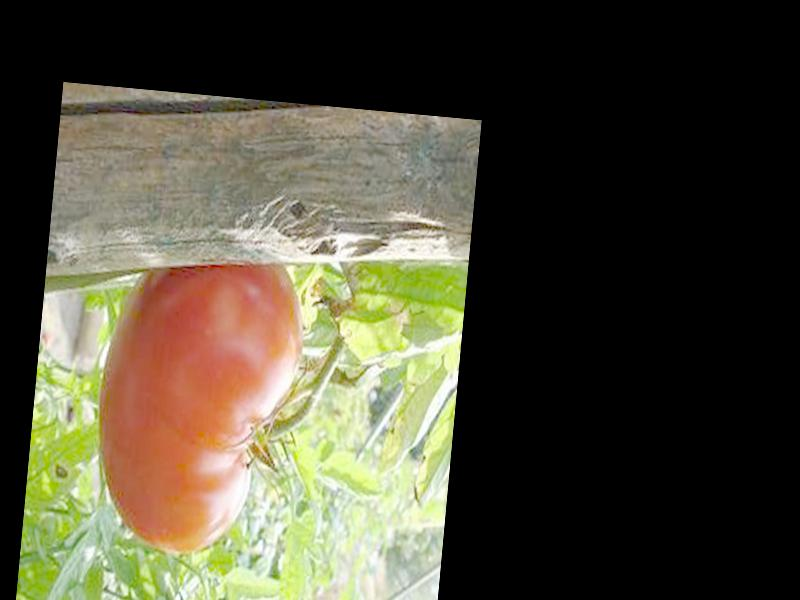Tomato: (88, 245, 310, 563)
